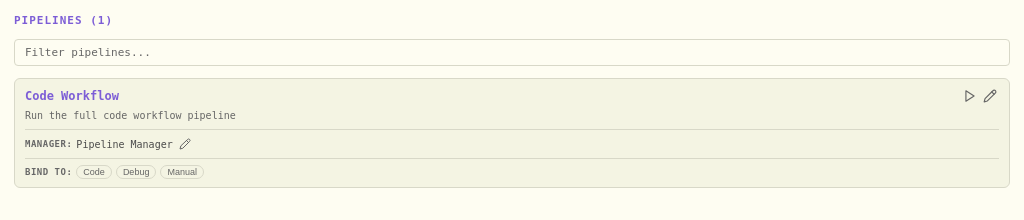
Test: PipelinesPanel › pipeline bindings UI › shows a 'not found, using default' warning when a bound pipeline is missing from the loaded list
This screenshot has width=1024, height=220.
Check: the text "Code Workflow" is shown, box top-left (25, 89), bottom-right (119, 103)
Click the button with aria-label "Bind code-workflow to Manual mode".
click(182, 172)  # box top-left (160, 165), bottom-right (204, 179)
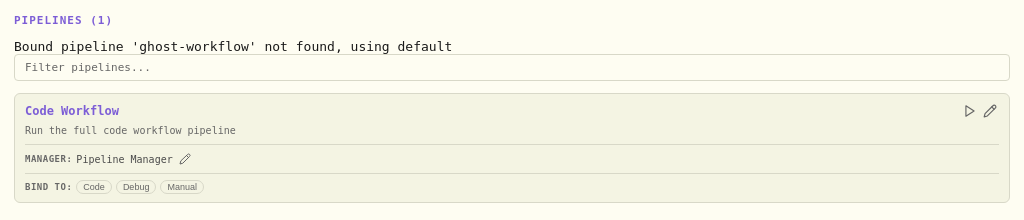
Check: the text "Bound pipeline 'ghost-workflow' not found, using default" is shown, box top-left (14, 39), bottom-right (452, 54)
